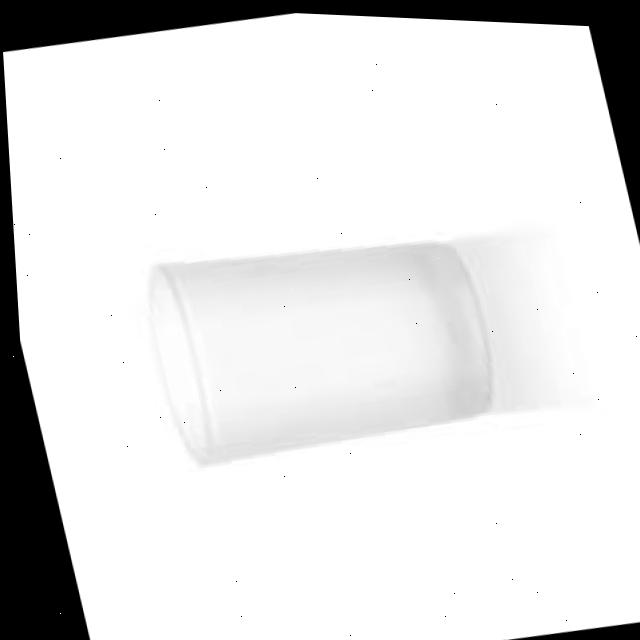Dry: (128, 206, 505, 480)
